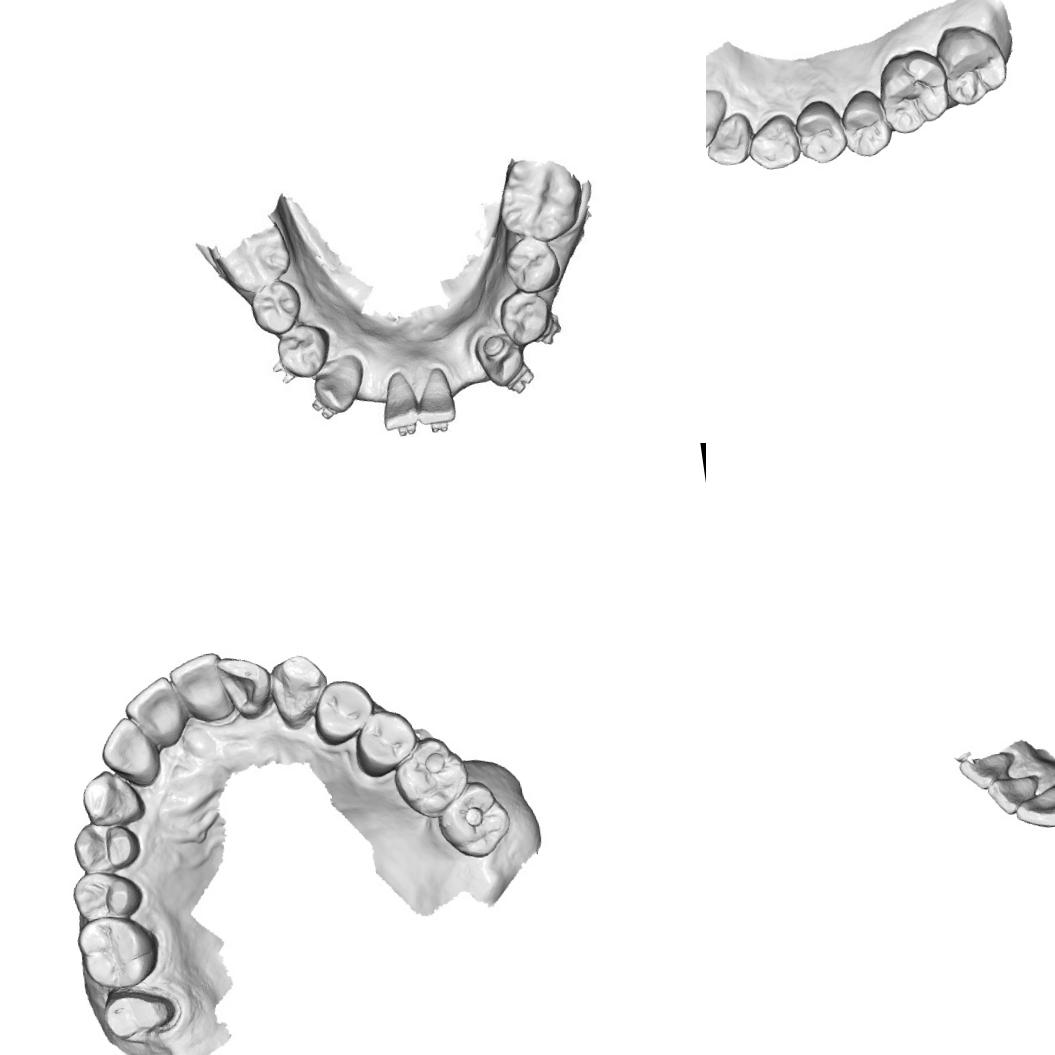canine: (263, 650, 332, 734), (78, 764, 148, 829), (308, 351, 370, 418), (470, 327, 530, 390), (743, 112, 804, 172)
crown: (98, 980, 187, 1046)
incisor: (95, 712, 164, 792), (120, 673, 189, 752), (166, 648, 233, 728), (212, 650, 276, 726), (412, 364, 460, 431), (706, 109, 758, 169), (378, 368, 422, 436), (984, 770, 1046, 818), (956, 749, 1019, 794), (1010, 781, 1055, 832), (706, 86, 732, 155)
molar: (490, 150, 588, 249), (388, 731, 475, 824), (72, 908, 166, 994), (872, 45, 955, 137), (432, 776, 516, 864), (933, 18, 1012, 110), (207, 220, 296, 298)
premolar: (347, 706, 422, 780), (310, 674, 380, 749), (68, 815, 144, 879), (69, 865, 146, 925), (837, 86, 896, 161), (498, 232, 564, 297), (792, 96, 850, 167), (272, 321, 336, 384), (495, 286, 556, 350), (245, 276, 306, 337)
